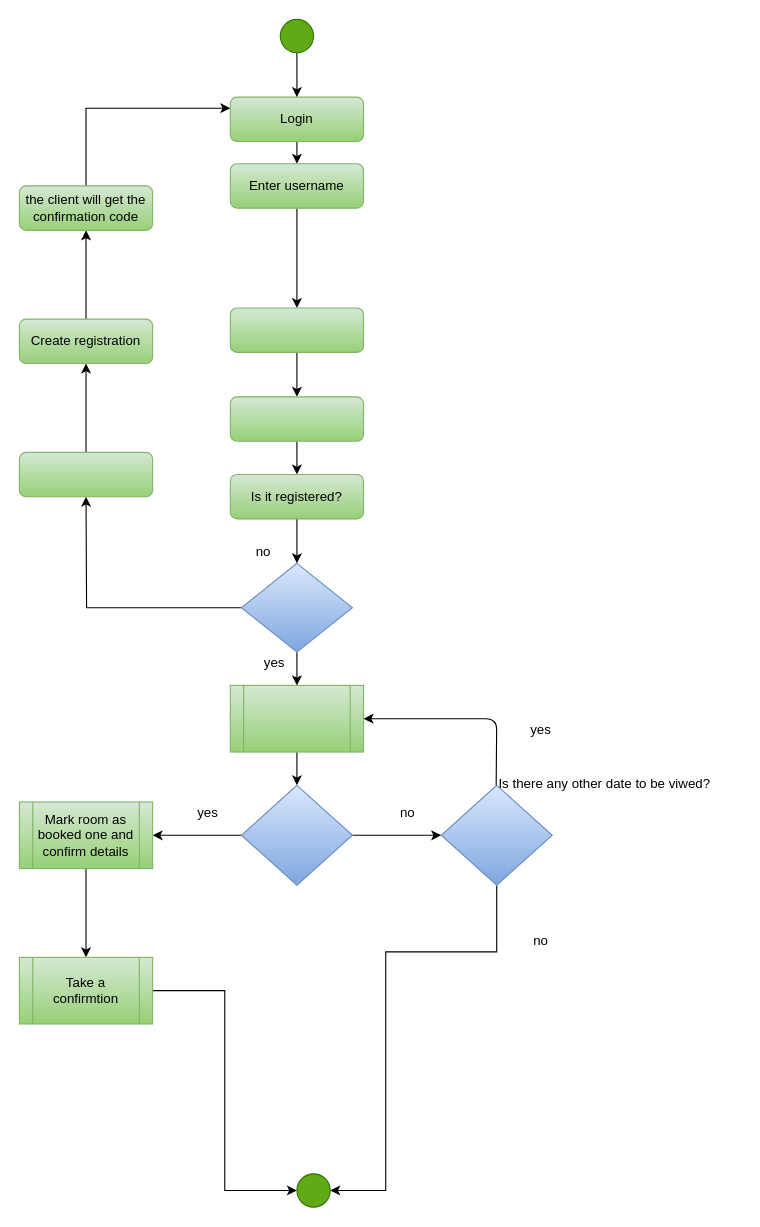
Some shapes in this 760 by 1227 pixel diagram are drawn without their labels. Here are the shapes that lost their labels. From the top down, the centre of each, then its label:
At pixel 296 329: "Enter password again".
At pixel 296 418: "Click login".
At pixel 85 474: "Enter the clients info".
At pixel 296 718: "For specific data check rooms available".
